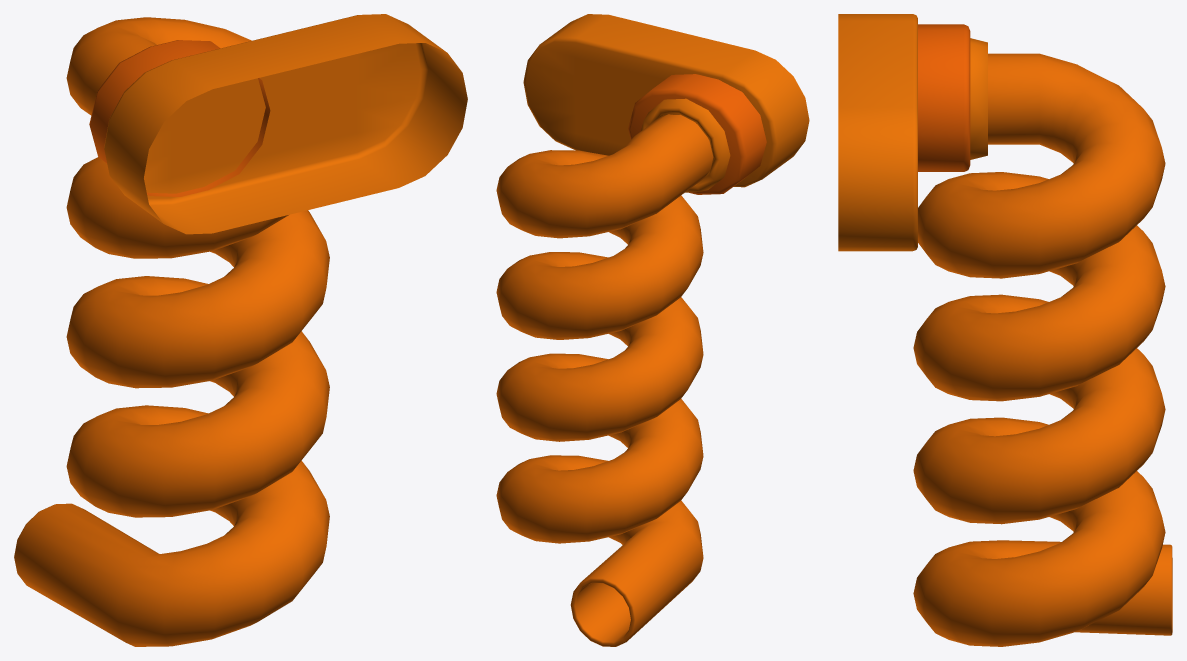
Rendered from Pipe2.fbx.
3 renders of one model, left to right at view 1: azimuth 30°, elevation 25°; view 2: azimuth 150°, elevation 25°; view 3: azimuth 270°, elevation 25°, orthographic. The views are drawn at different scales.
Visible parts, largest first — view 1: Slide; view 2: Slide; view 3: Slide.
Boxes of the visible parts, bbox=[...] form: Slide: bbox=[14, 14, 467, 646]; Slide: bbox=[496, 14, 809, 646]; Slide: bbox=[838, 14, 1172, 646].
Bounding box in the file's own units: 45.26 × 84.64 × 42.61.
